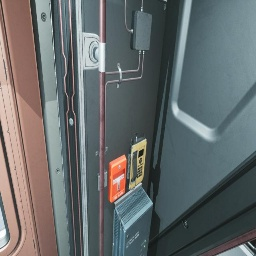EmergencyPhone ,: (126, 132, 147, 190)
FireAlarm ,: (108, 155, 127, 203)
